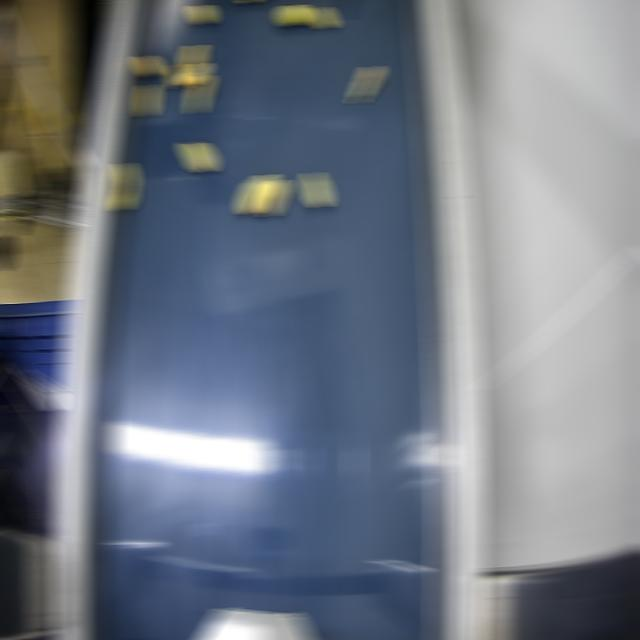Baby Potato: (241, 174, 274, 214), (353, 65, 380, 103), (115, 162, 134, 211), (183, 142, 214, 172), (261, 179, 286, 216), (306, 172, 329, 207), (191, 75, 210, 113), (279, 4, 308, 26), (182, 63, 207, 85), (182, 45, 203, 71), (139, 84, 156, 116), (136, 56, 159, 77), (312, 6, 333, 29), (170, 64, 187, 88), (191, 5, 212, 24), (242, 0, 257, 3)
